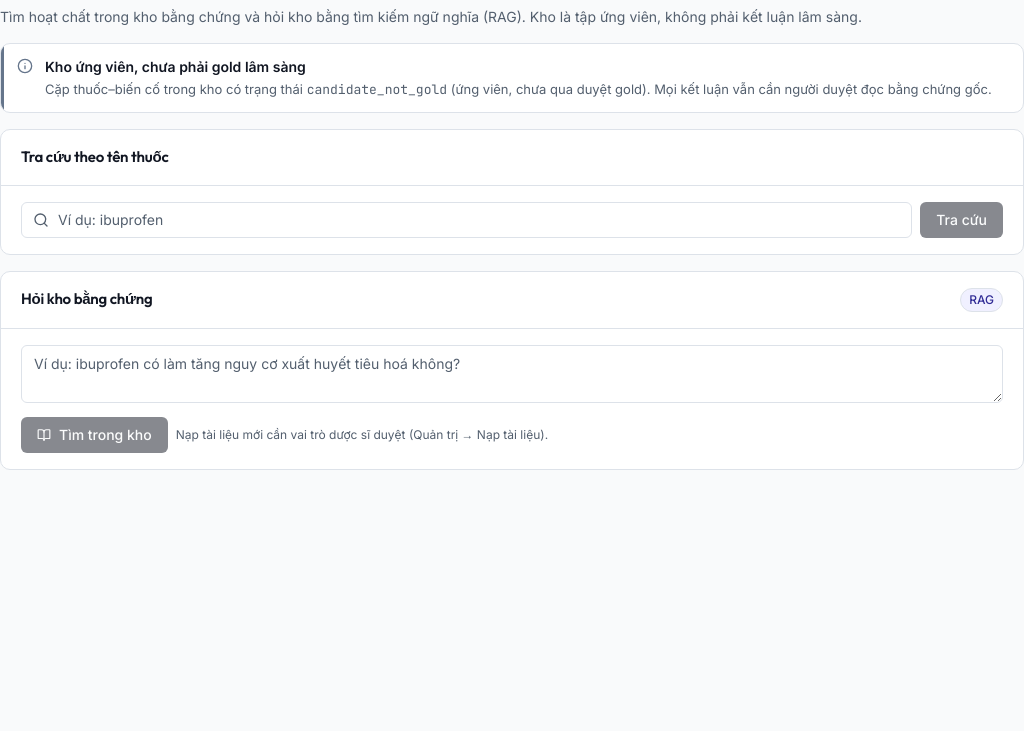
/app/drugs — tìm kiếm ngữ nghĩa RAG › thẻ kết quả hiện nhãn tiếng Việt cho cờ chất lượng, không hiện mã thô
Type "ibuprofen" into the field named "Tên thuốc cần tra cứu" at (467, 220), box [21, 202, 912, 238]
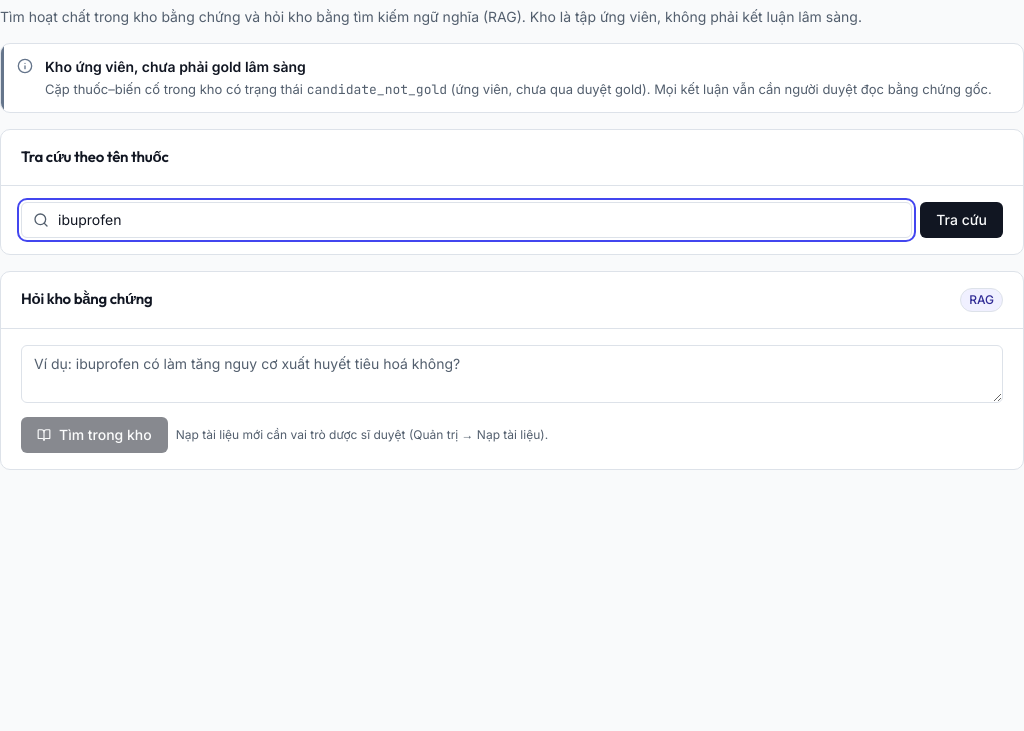
Click the button "Tra cứu" at (962, 220), box [920, 202, 1003, 238]
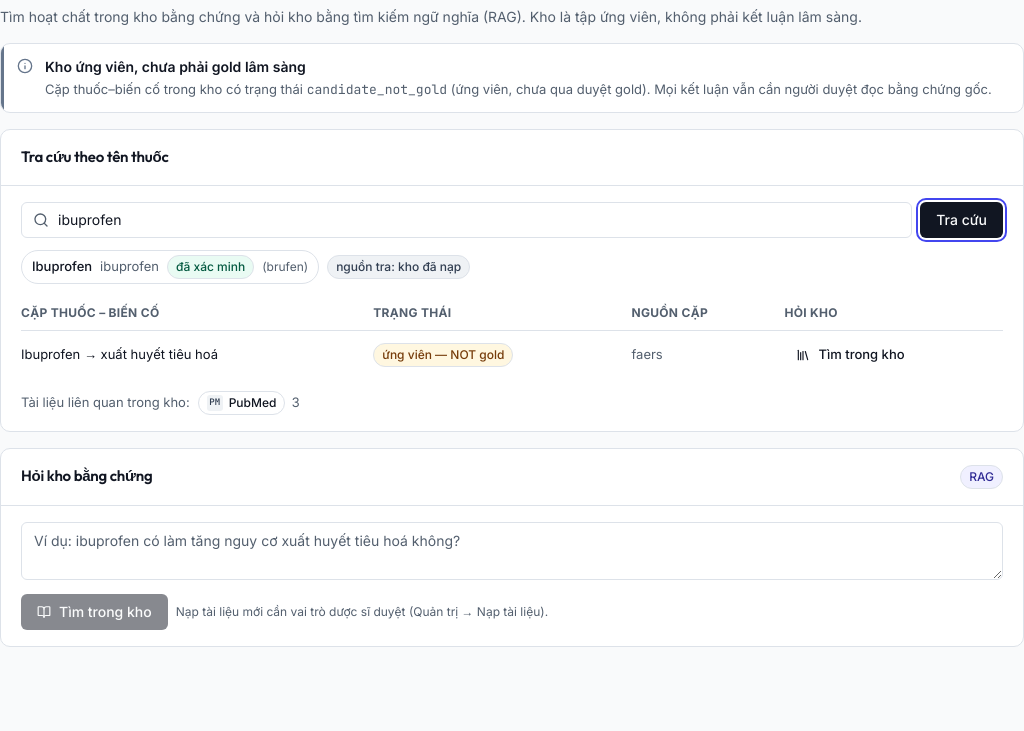
Click the button "Tìm trong kho" in the row of "xuất huyết tiêu hoá" at (851, 355), box [784, 339, 917, 371]
(page scrolled)
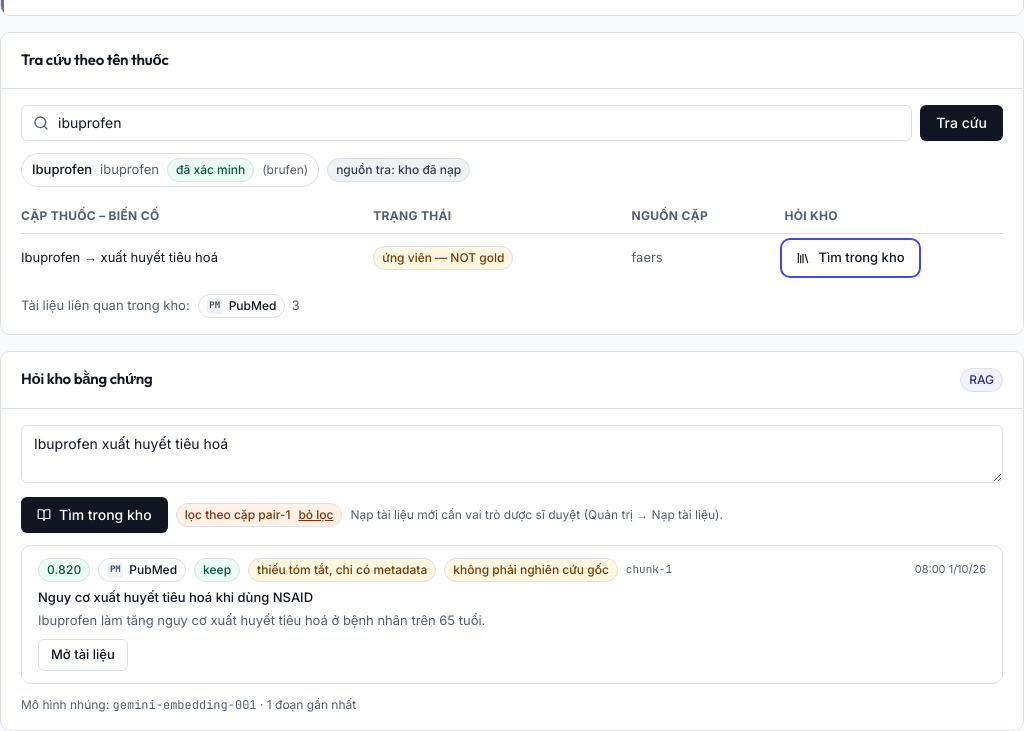
Expected: the text "thiếu tóm tắt, chỉ có metadata" is shown, [248, 558, 436, 582]
Expected: the text "không phải nghiên cứu gốc" is shown, [444, 558, 618, 582]
Expected: the text "Nguy cơ xuất huyết tiêu hoá khi dùng NSAID" is shown, [38, 589, 313, 605]
